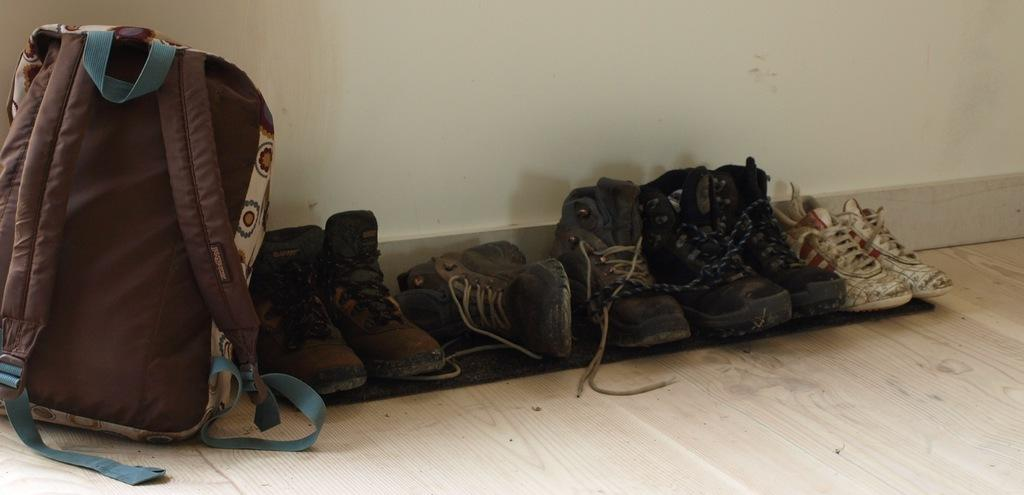Luggage-and-bags: (10, 6, 285, 426)
